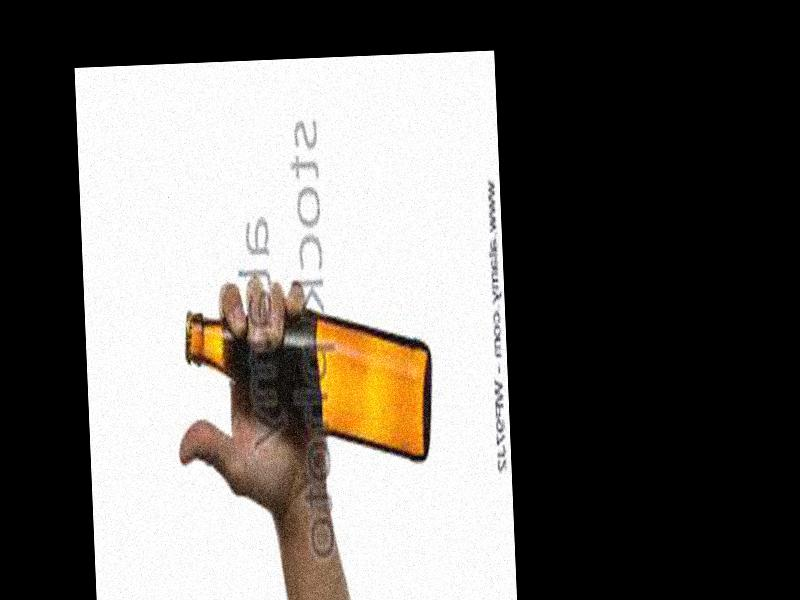Beer: (186, 297, 433, 473)
